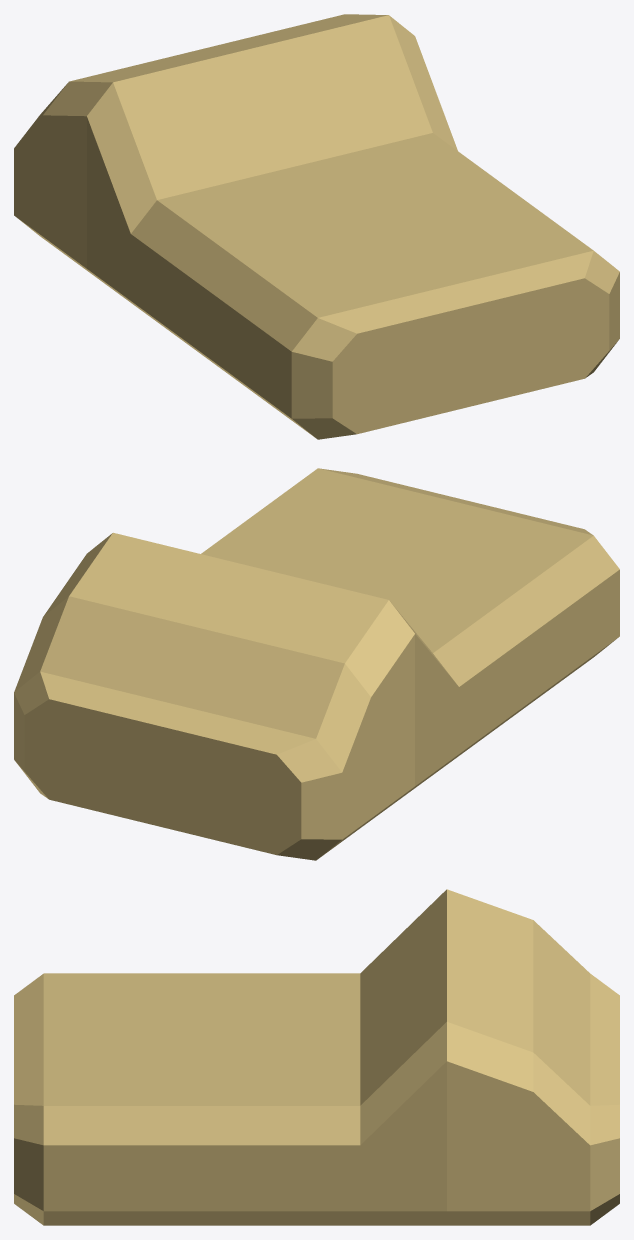
Rendered from tallow_scout_a.glb.
3 views of the same model, one above another, from view 1: azimuth 30°, elevation 25°; view 2: azimuth 150°, elevation 25°; view 3: azimuth 270°, elevation 25° (orthographic).
Parts seen in each view (by area): view 1: tallow_scout_a; view 2: tallow_scout_a; view 3: tallow_scout_a.
Boxes of the visible parts, <box> form: tallow_scout_a: <box>14,14,619,439</box>; tallow_scout_a: <box>14,468,619,860</box>; tallow_scout_a: <box>14,889,619,1225</box>.
Size of the model in its own units: 2.4 by 1.45 by 3.9.
